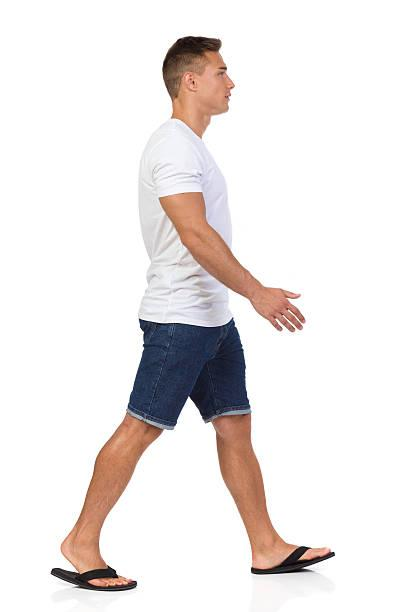Shorts: (126, 315, 253, 435)
short sleeve shirt: (137, 118, 237, 331)
